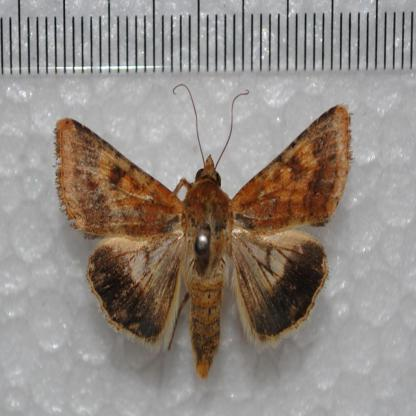helicoverpa: (55, 102, 351, 382)
